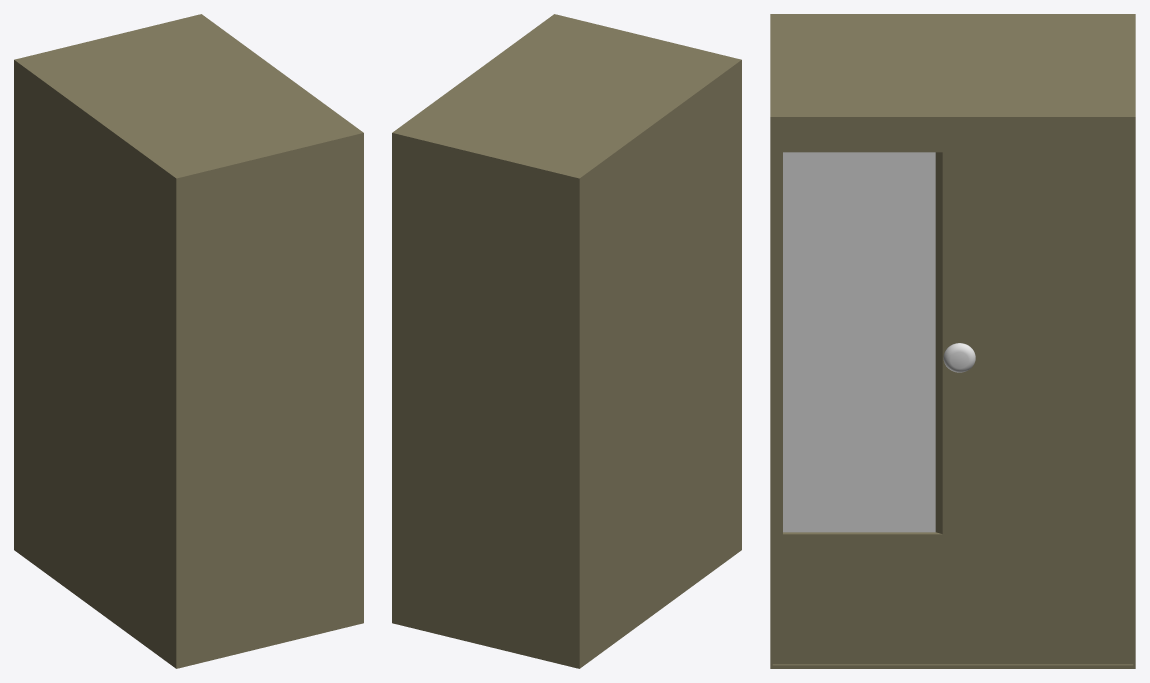
Rendered from almare.glb.
3 renders of one model, left to right at view 1: azimuth 30°, elevation 25°; view 2: azimuth 150°, elevation 25°; view 3: azimuth 270°, elevation 25°, orthographic. The views are drawn at different scales.
Visible parts, largest first — view 1: Circle; view 2: Circle; view 3: Circle.
Boxes of the visible parts, x1,y1,x2,y2 form: Circle: (14,14,363,668); Circle: (392,14,741,668); Circle: (770,14,1135,668).
Bounding box in the file's own units: 2.09 × 5 × 3.
